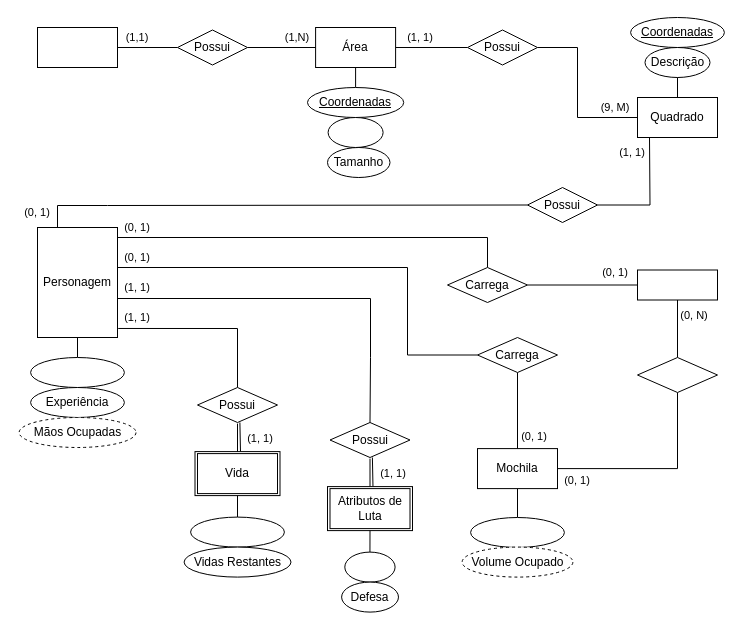
Image size: 742x630. Some labels were removed from this diagram. The shapes that lost their labels are listed below. From the top down, each one's centre as x and y in pixels, then its label:
At (77,47): "Mapa".
At (355,132): "Tipo".
At (677,284): "Item".
At (77,372): "Nome".
At (677,374): "Guarda".
At (237,531): "Nível de Vida".
At (517,532): "Número".
At (369,566): "Ataque".
